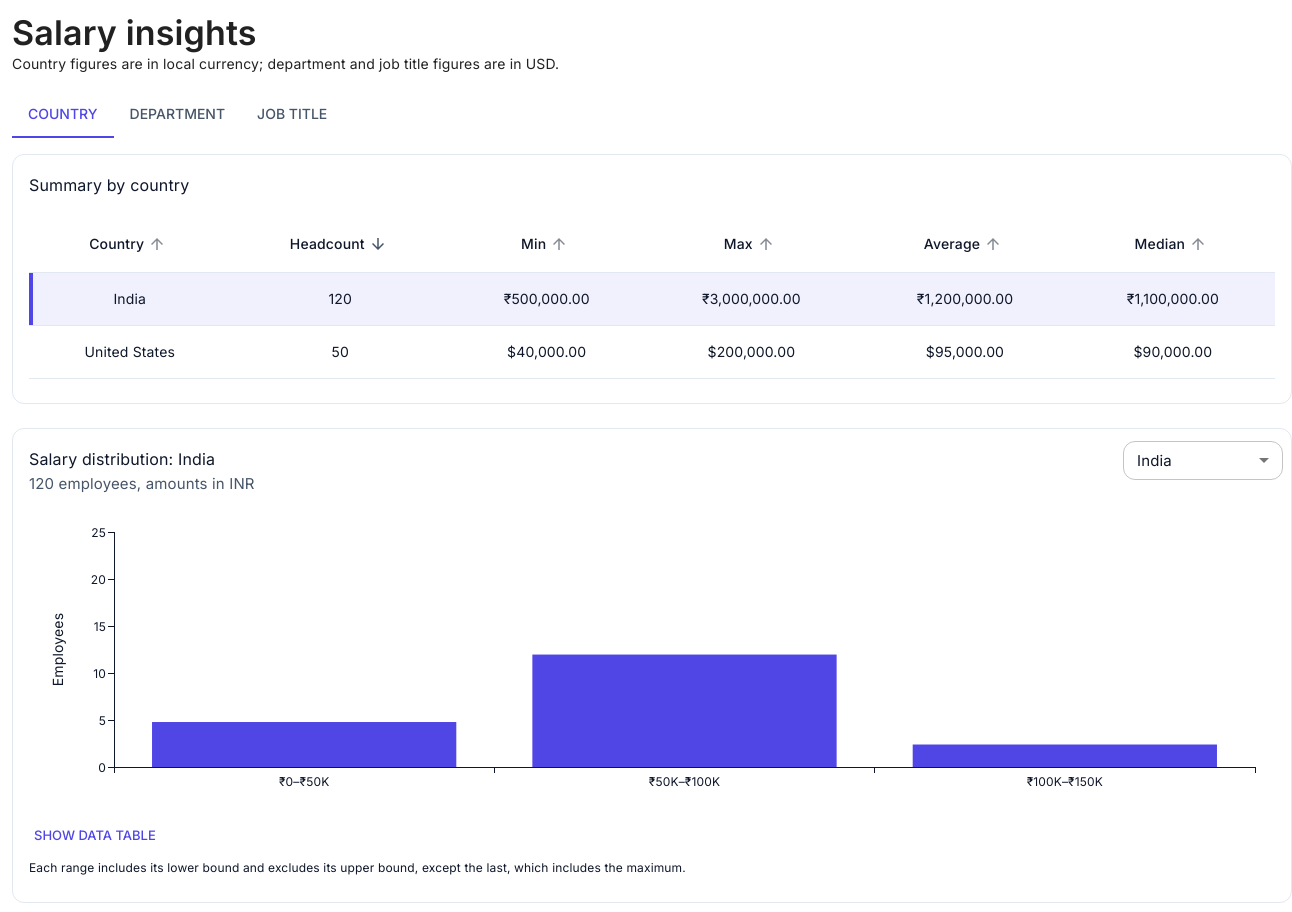
InsightsPage › Job title tab: labels are plain job titles, figures are USD
Check: the table named "Summary by country" is shown, box x1=29 y1=215 x2=1275 y2=379
Click the tab "Job title" at (292, 114), box x1=241 y1=90 x2=343 y2=138
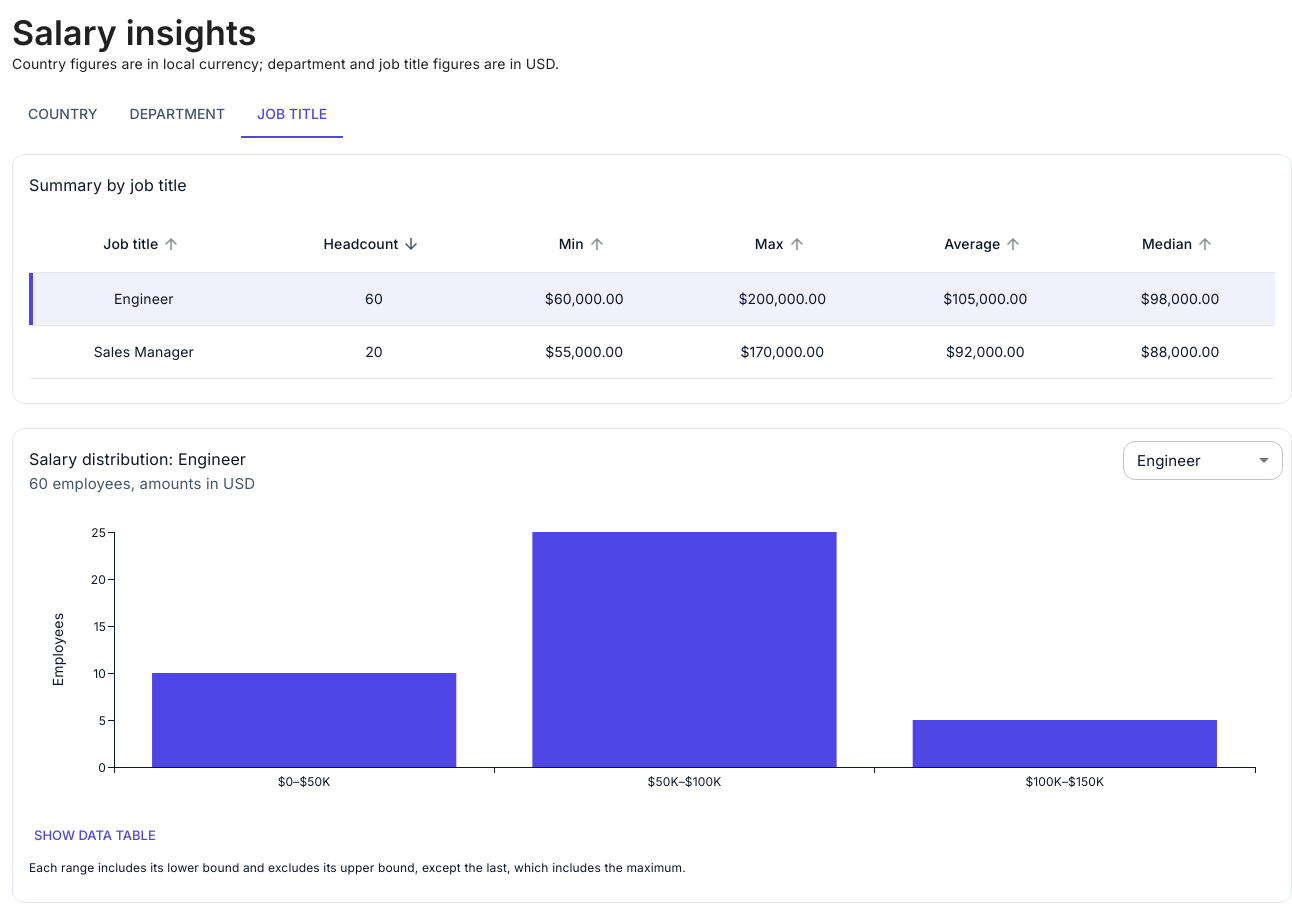
Check: the text "Engineer" is shown, box x1=29 y1=273 x2=259 y2=326
Check: the text "Sales Manager" is shown, box x1=29 y1=326 x2=259 y2=379
